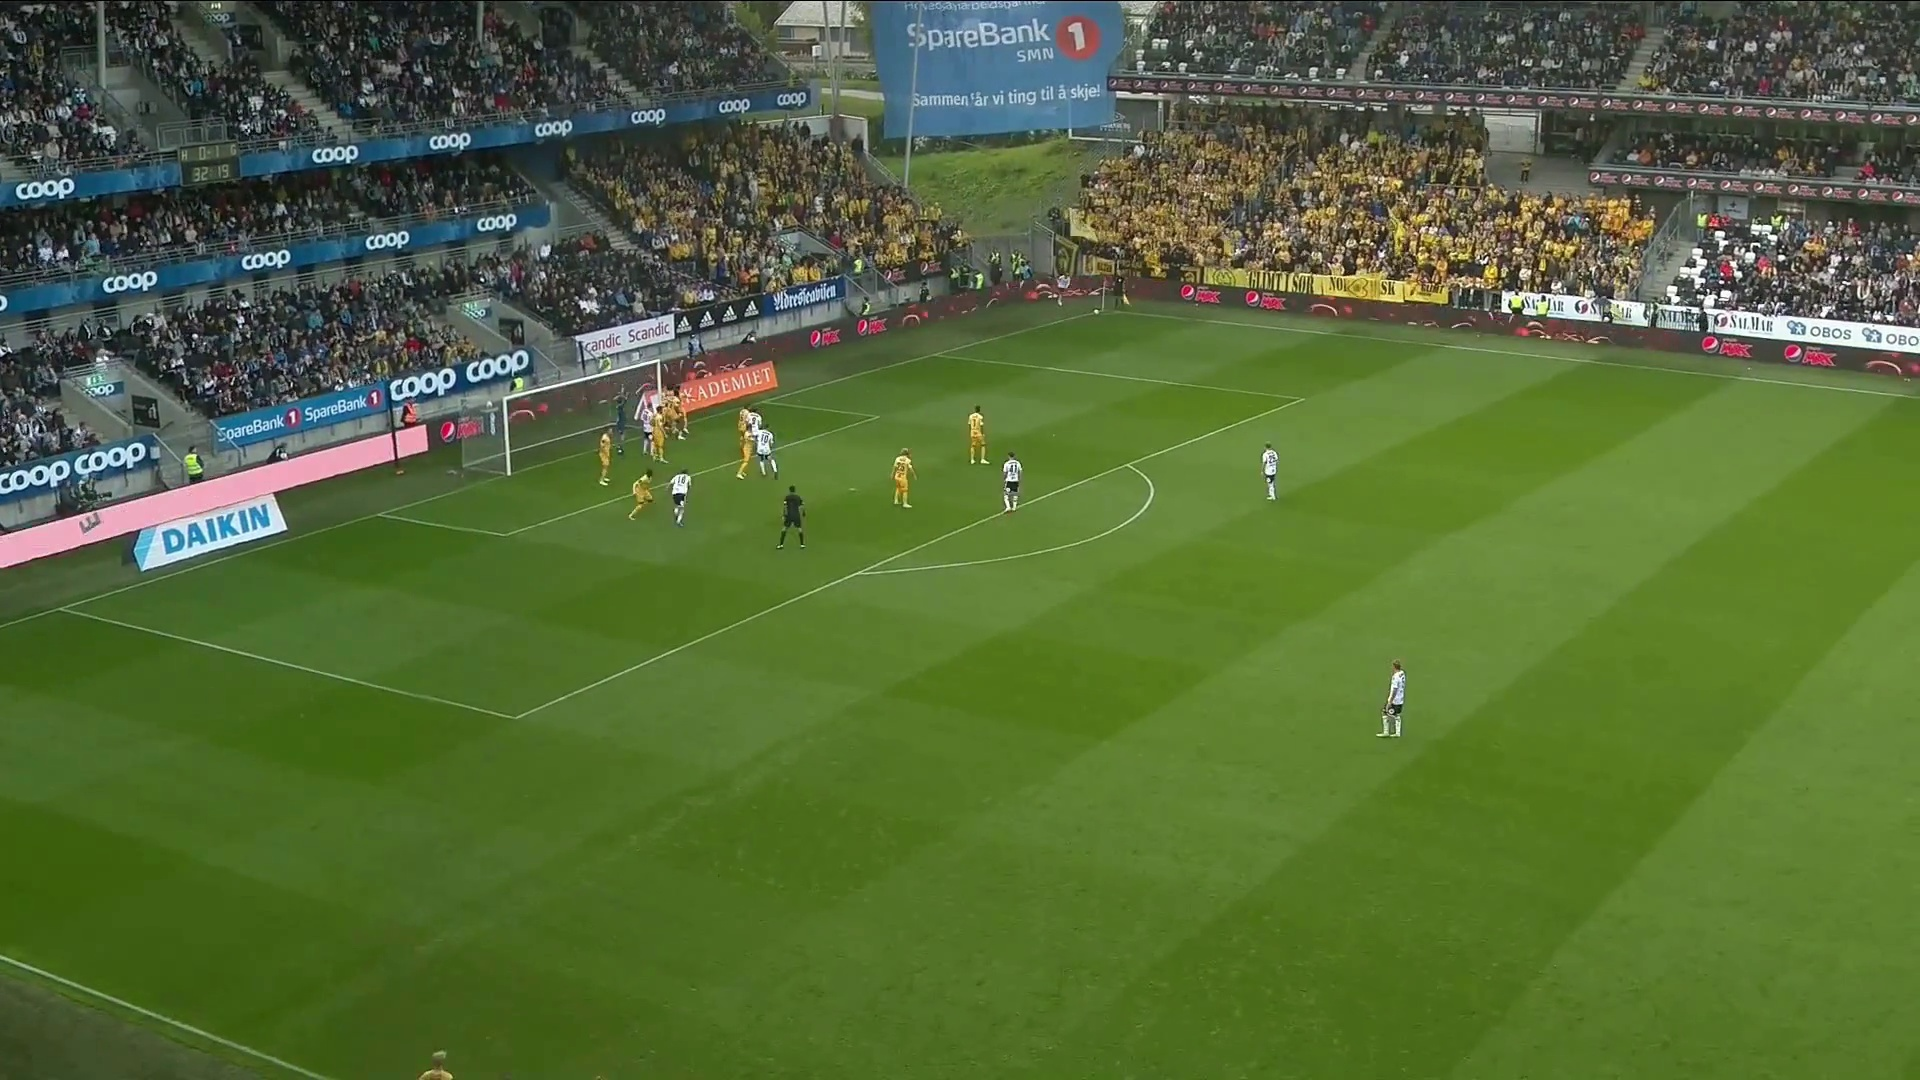ball: (1093, 309, 1101, 317)
player: (1379, 659, 1406, 739), (776, 484, 807, 550), (735, 408, 758, 479), (891, 447, 917, 509), (661, 386, 690, 441), (667, 467, 692, 528), (628, 468, 656, 520), (755, 422, 779, 479), (1002, 450, 1023, 515), (968, 404, 990, 465), (416, 1048, 455, 1080), (743, 407, 763, 469), (649, 405, 670, 463), (633, 381, 660, 424), (1261, 441, 1280, 501), (597, 427, 616, 485), (641, 400, 656, 457), (613, 399, 629, 449), (1056, 273, 1073, 307)
